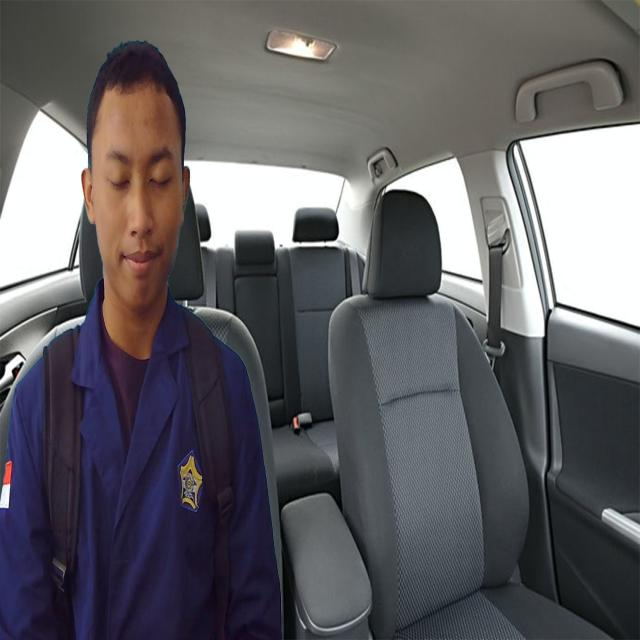no-seatbelt: (95, 79, 182, 312)
